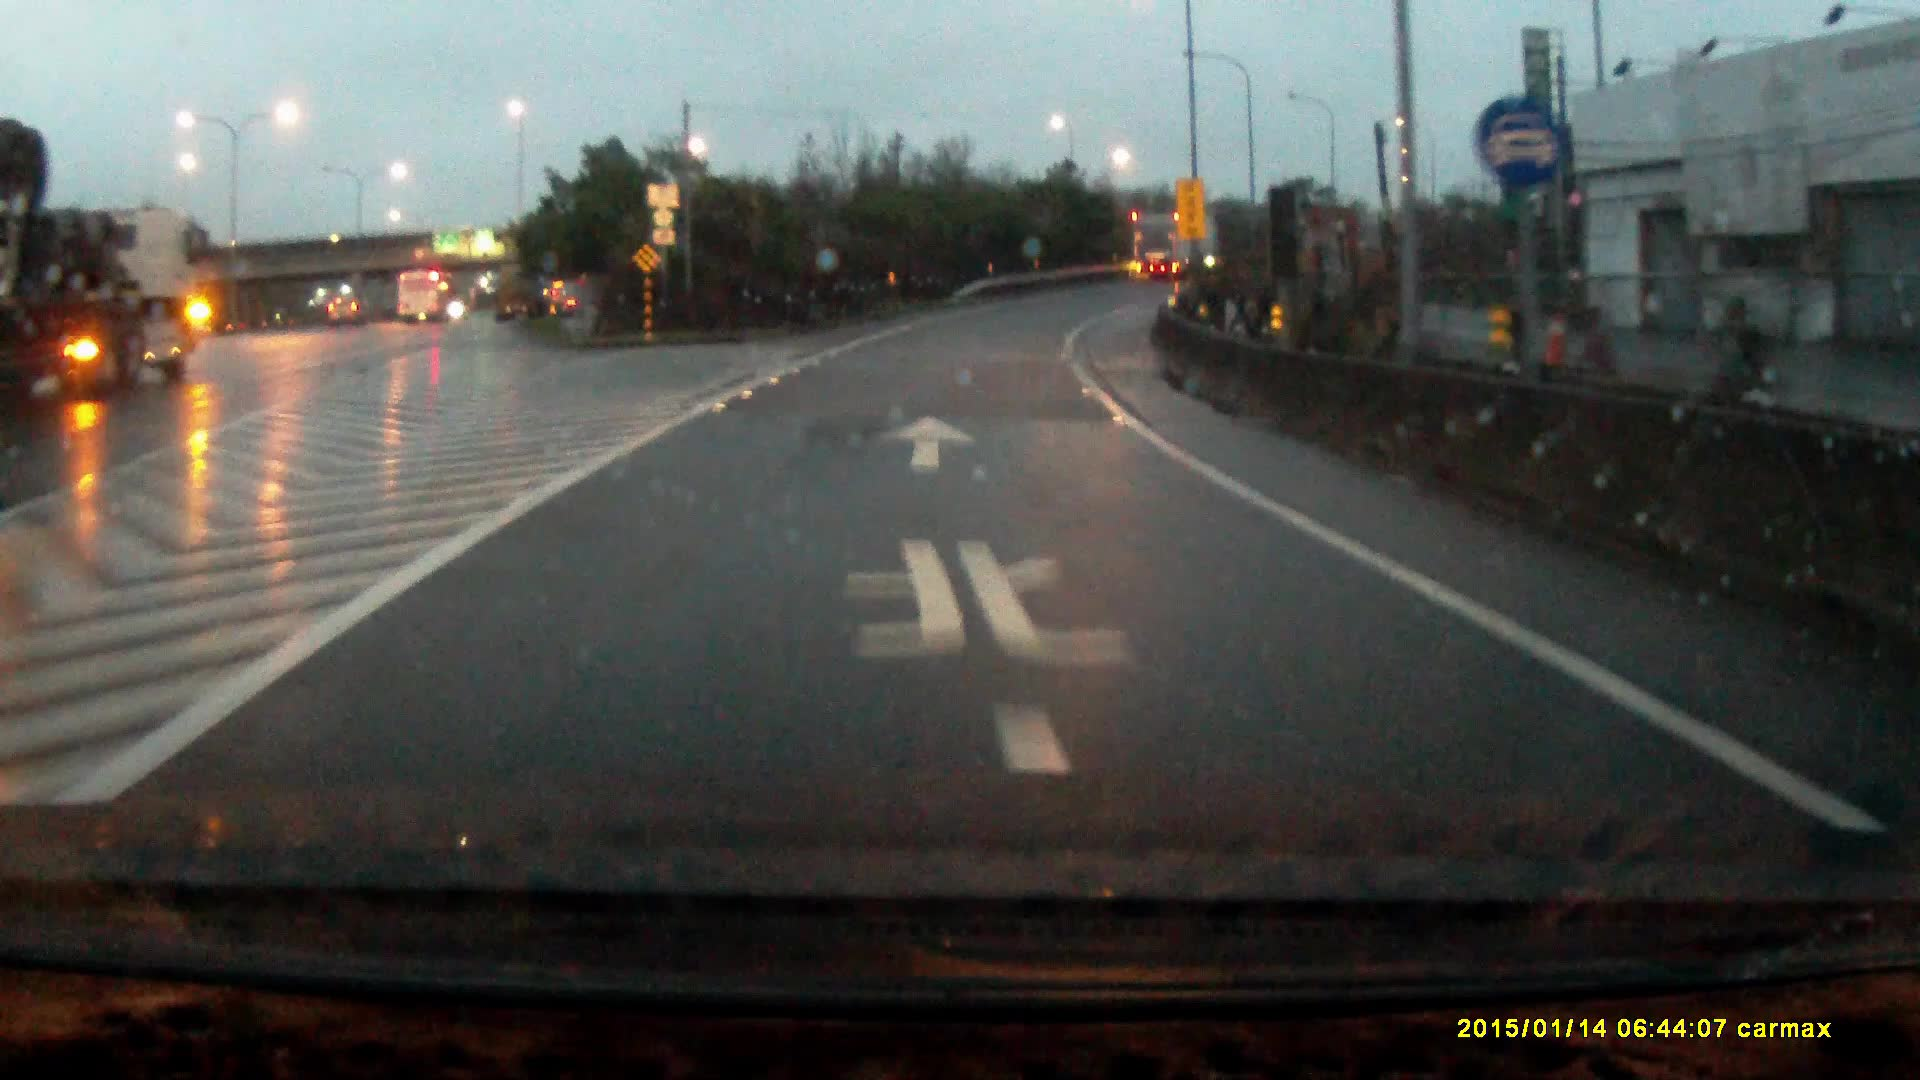vehicle: (1, 150, 207, 397), (1131, 210, 1226, 281), (400, 270, 454, 322), (328, 295, 363, 327)
